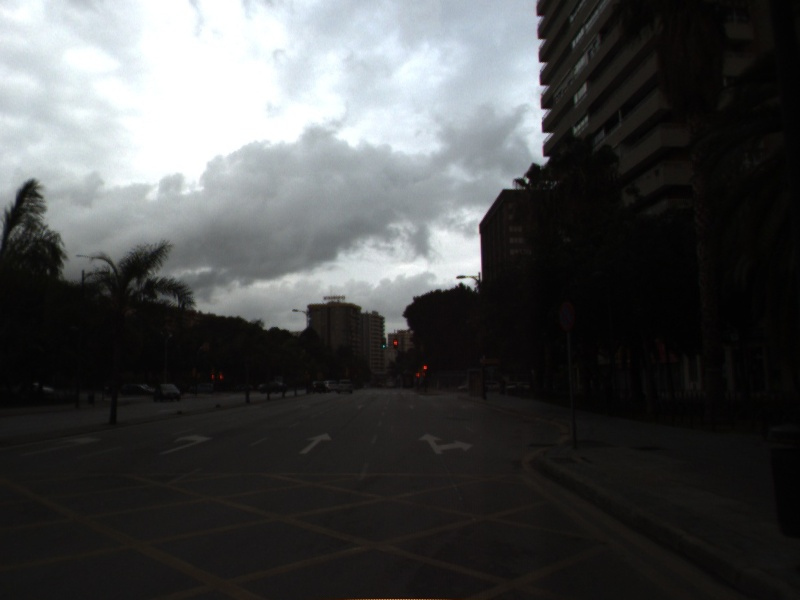LEFT: (16, 434, 103, 458), (157, 431, 216, 457)
STRAIGHT: (296, 431, 334, 456)
STRAIGHT_RIGHT: (416, 431, 475, 456)
